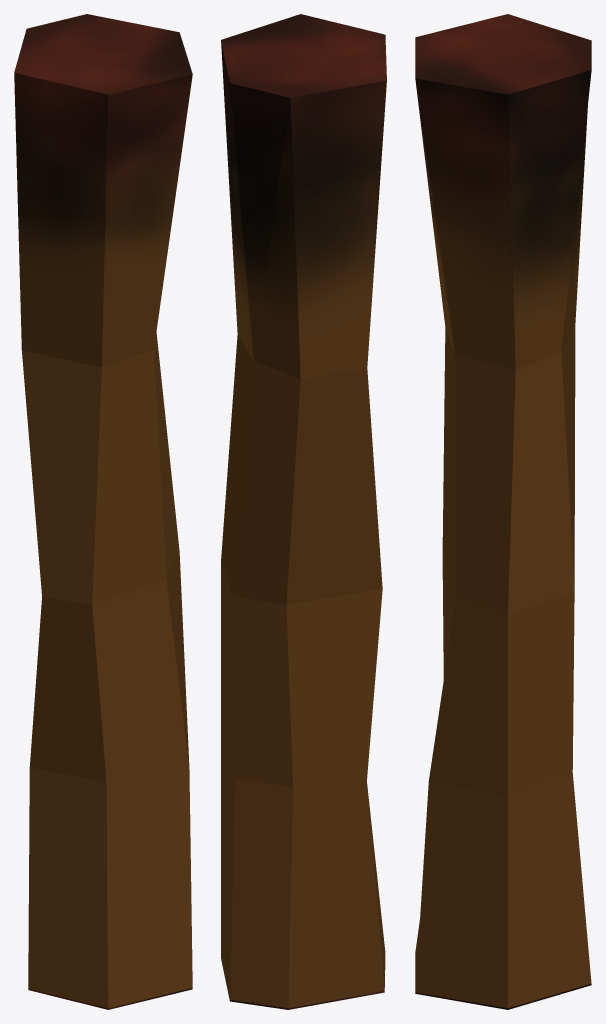
The model's file is Torch.fbx.
3 renders of one model, left to right at view 1: azimuth 30°, elevation 25°; view 2: azimuth 150°, elevation 25°; view 3: azimuth 270°, elevation 25°, orthographic.
Visible parts, largest first — view 1: Torch; view 2: Torch; view 3: Torch.
Part boxes in pixels (x1,y1,x2,y2): Torch: (14, 14, 192, 1009); Torch: (221, 14, 386, 1009); Torch: (415, 14, 591, 1009).
Size of the model in its own units: 17.2 by 90.94 by 15.88.
1 material, 1 textured.
